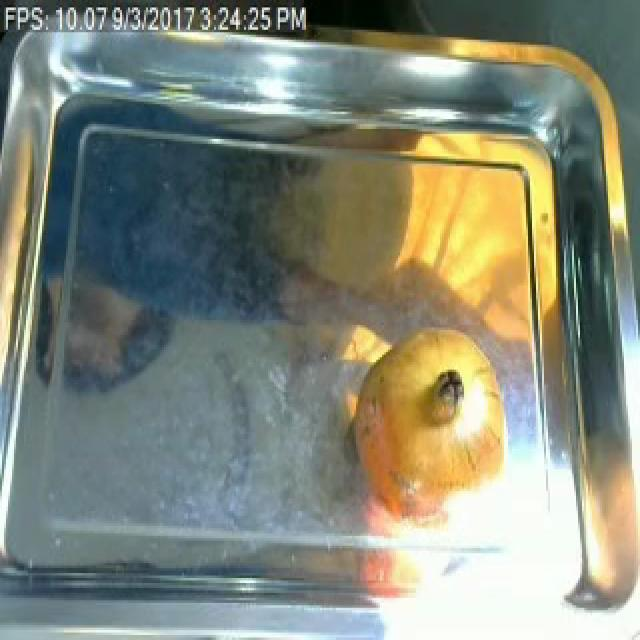fruit: (338, 313, 522, 538)
